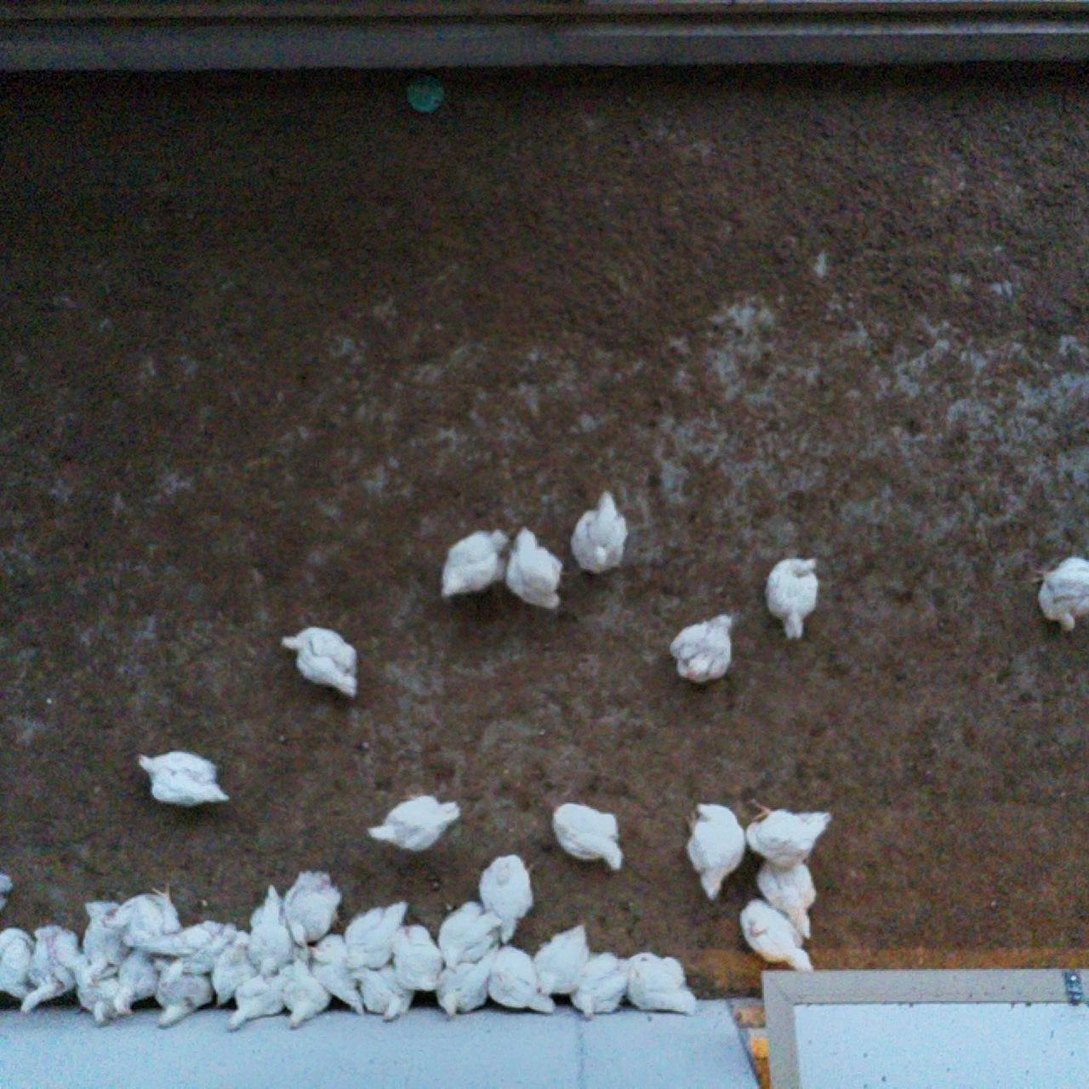chicken: (730, 896, 822, 975), (741, 795, 834, 867), (280, 625, 365, 703), (542, 797, 626, 874), (562, 482, 627, 580), (683, 797, 745, 898), (19, 923, 80, 1023), (622, 947, 708, 1017), (748, 852, 818, 937), (764, 547, 823, 644), (502, 526, 567, 614), (439, 526, 514, 602), (369, 793, 462, 854), (336, 899, 409, 974), (483, 946, 558, 1019), (133, 748, 228, 805), (99, 886, 175, 956), (476, 849, 533, 942), (149, 952, 218, 1028), (301, 933, 364, 1016), (668, 611, 738, 682), (166, 916, 246, 977), (1028, 552, 1089, 632), (286, 863, 344, 947), (251, 879, 299, 979), (386, 910, 443, 993), (76, 899, 129, 985), (535, 917, 592, 994), (227, 965, 293, 1031), (573, 949, 632, 1021), (72, 953, 125, 1029), (350, 965, 418, 1023), (440, 903, 500, 968), (205, 931, 257, 1005), (283, 962, 334, 1034), (433, 957, 492, 1015), (0, 924, 34, 1008), (121, 946, 160, 1010), (0, 870, 15, 915)
